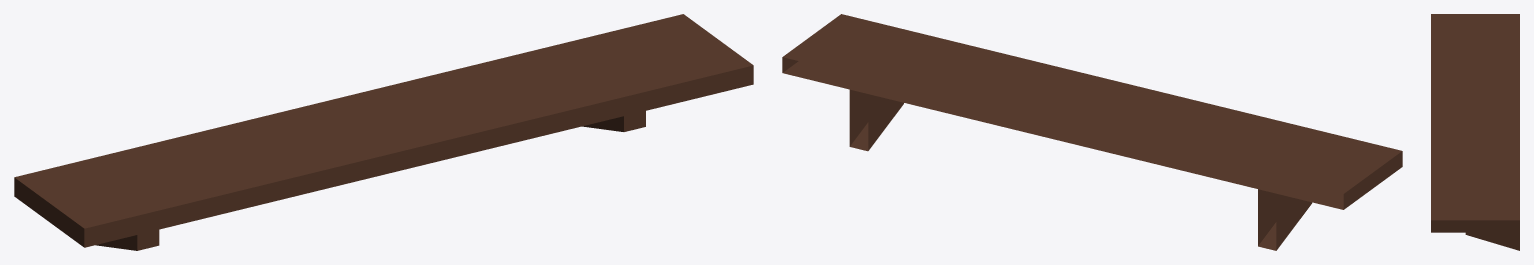
File: Shelves_1B.fbx
The picture shows the model from 3 angles, left to right: view 1: azimuth 30°, elevation 25°; view 2: azimuth 150°, elevation 25°; view 3: azimuth 270°, elevation 25°; orthographic projection. The views are drawn at different scales.
Visible parts, largest first — view 1: polySurface1679; view 2: polySurface1679; view 3: polySurface1679.
Part boxes in pixels (left/top/right/bottom): polySurface1679: left=14, top=14, right=753, bottom=250; polySurface1679: left=782, top=14, right=1402, bottom=250; polySurface1679: left=1431, top=14, right=1519, bottom=250.
Bounding box in the file's own units: 2.2 × 0.2748 × 0.4.
1 material, 1 textured.
